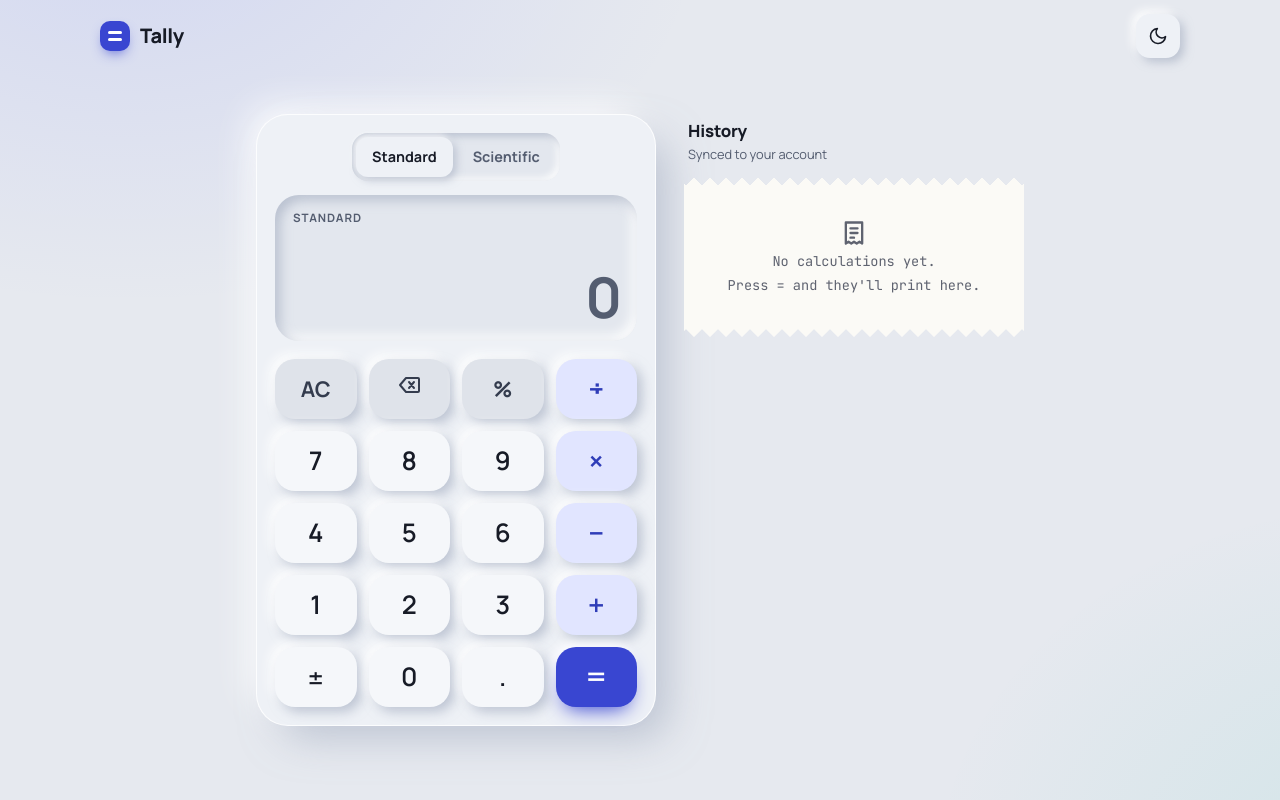
Test: history (local mode) › shows a notice and keeps the result when saving fails
Click the button "2" at [409, 605], box x1=368 y1=575 x2=450 y2=635
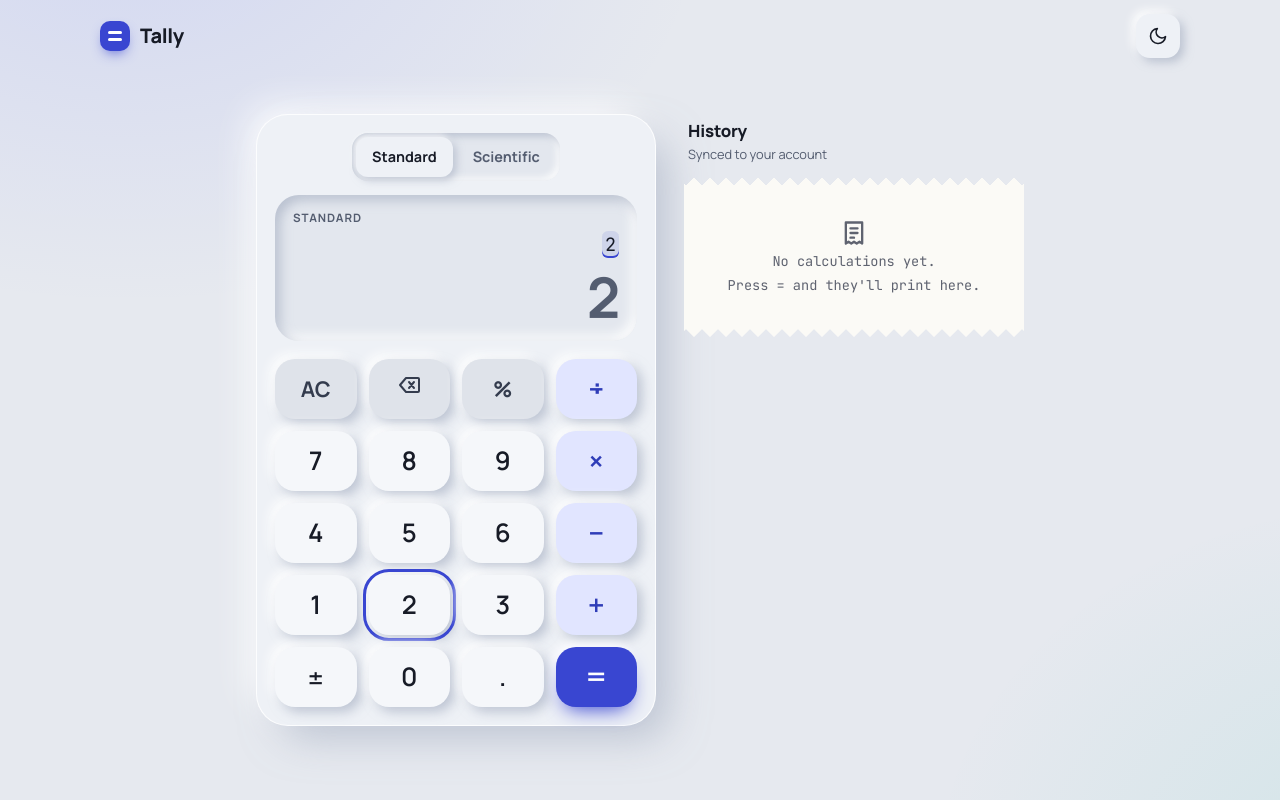
Click the button named "plus" at [596, 605], box x1=556 y1=575 x2=637 y2=635
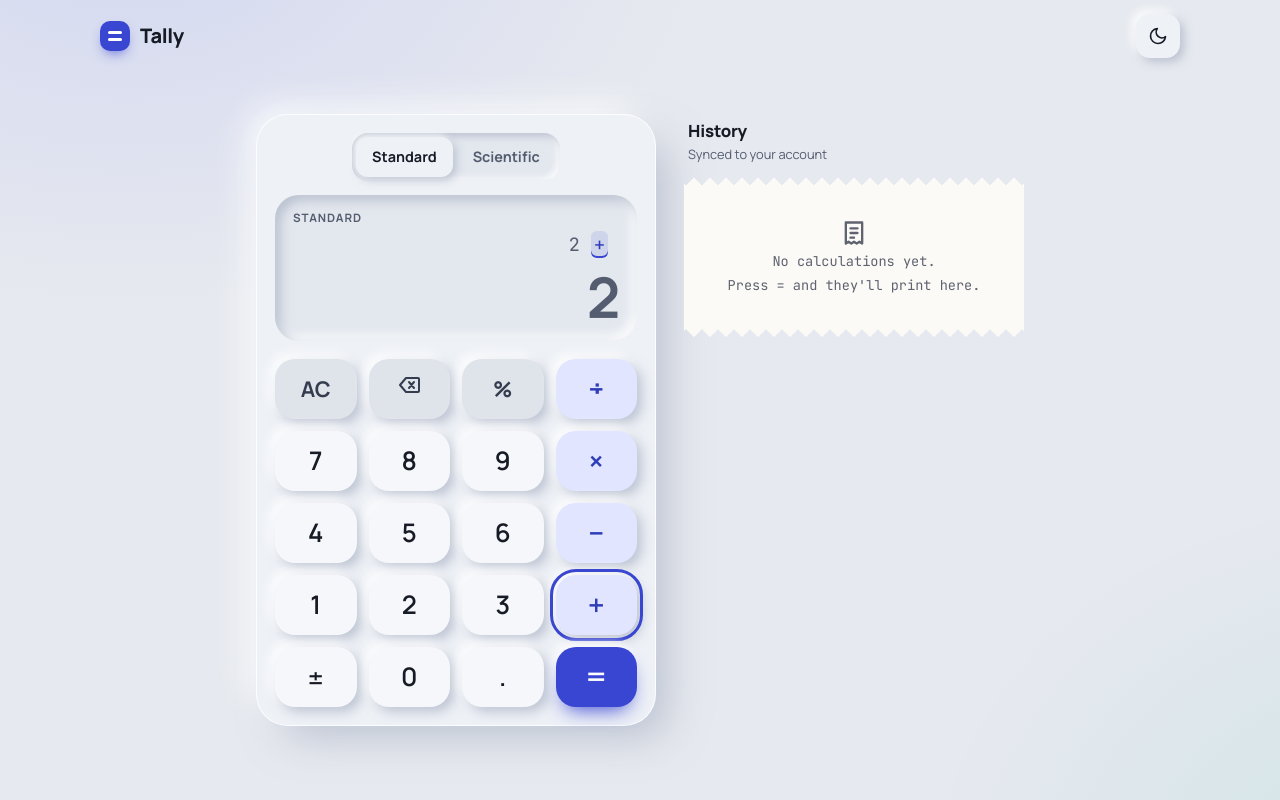
Click the button "3" at [503, 605], box x1=462 y1=575 x2=544 y2=635
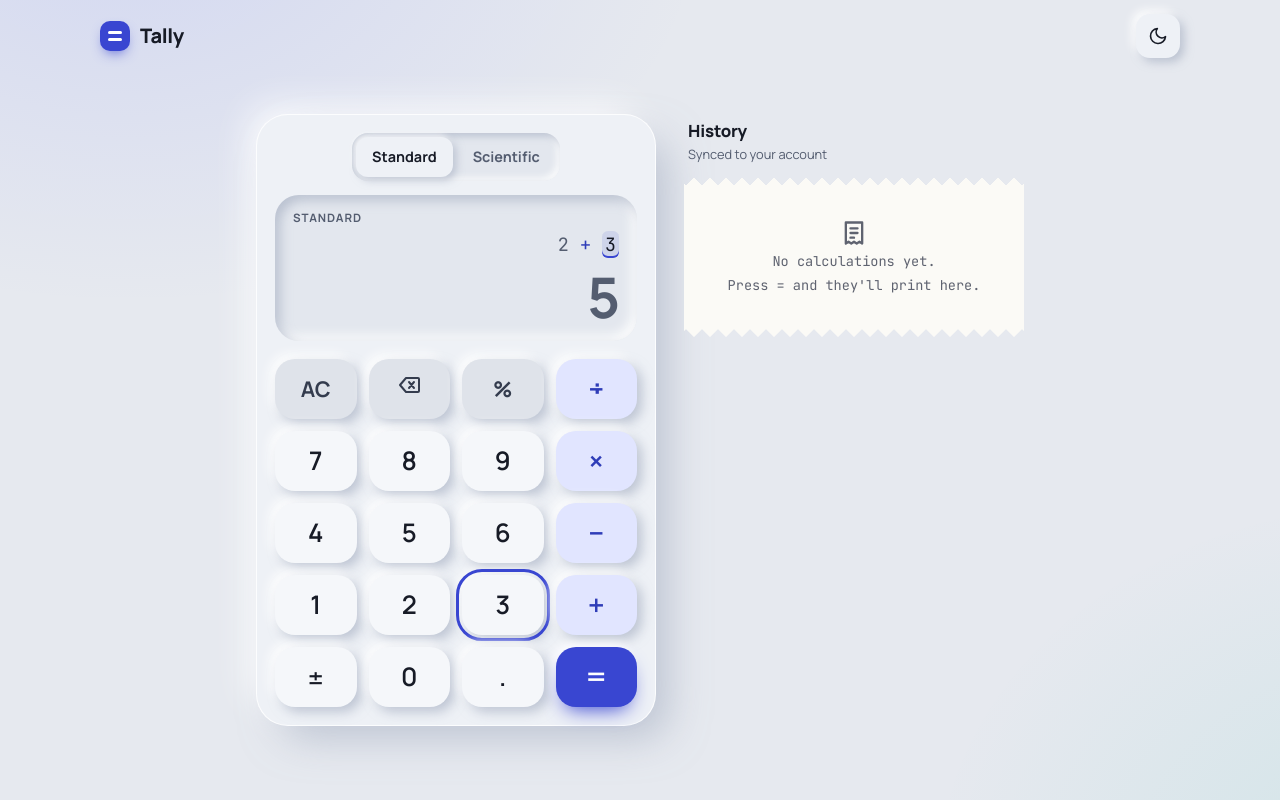
Click the button named "equals" at [596, 677], box x1=556 y1=647 x2=637 y2=707
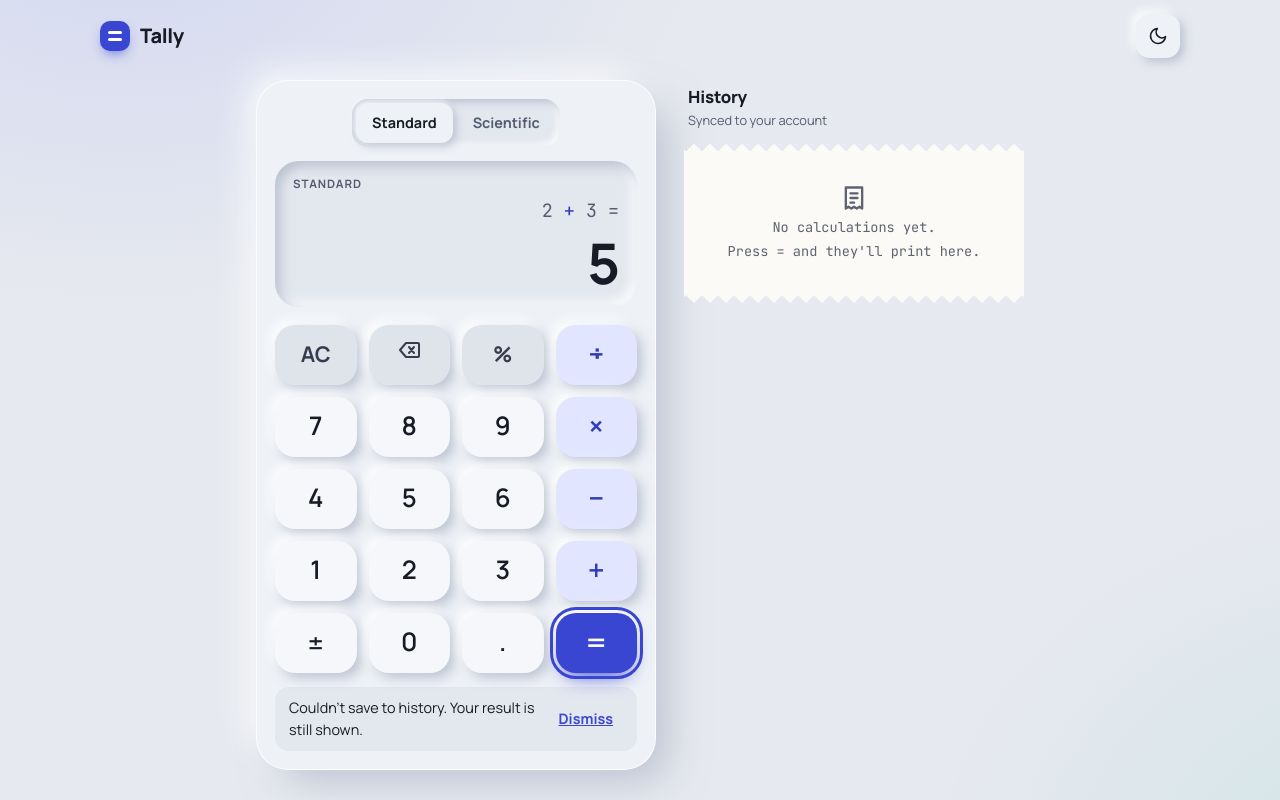
expect the text with test id "result" reads "5": met, box x1=586 y1=224 x2=619 y2=301
expect the message shows "Couldn't save to history": met, box x1=289 y1=698 x2=534 y2=739
